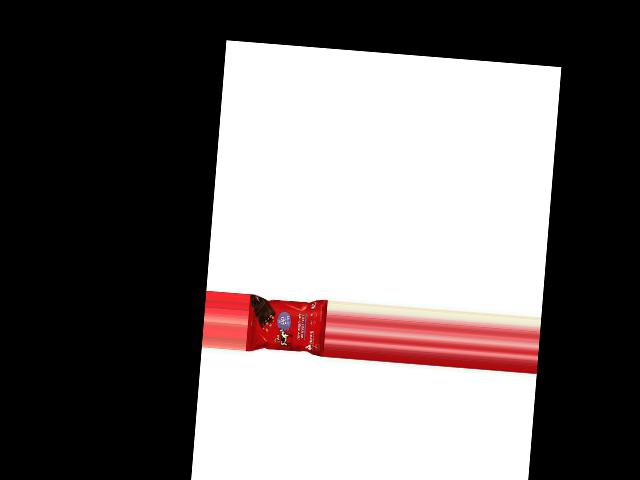chocolate: (246, 293, 328, 355)
